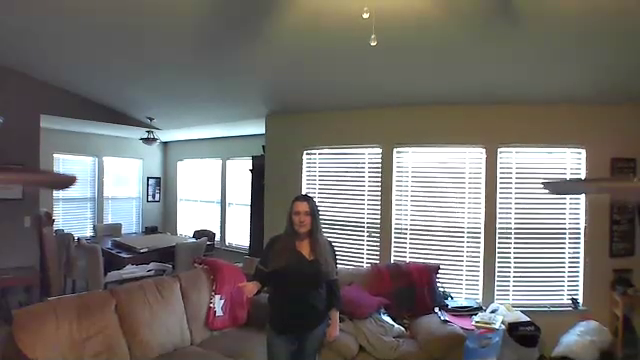land: (233, 279, 263, 301)
